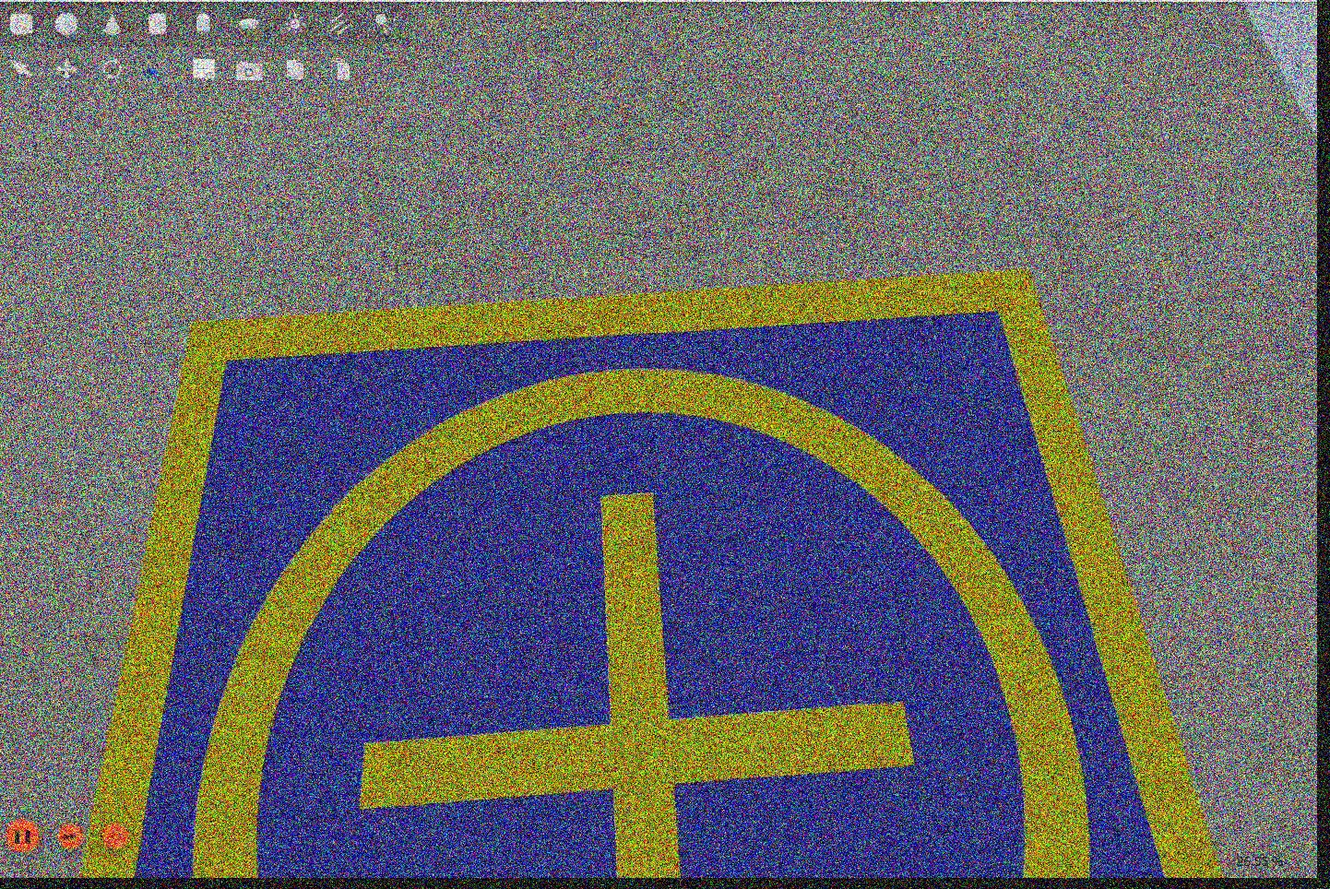small_base: (79, 264, 1219, 882)
